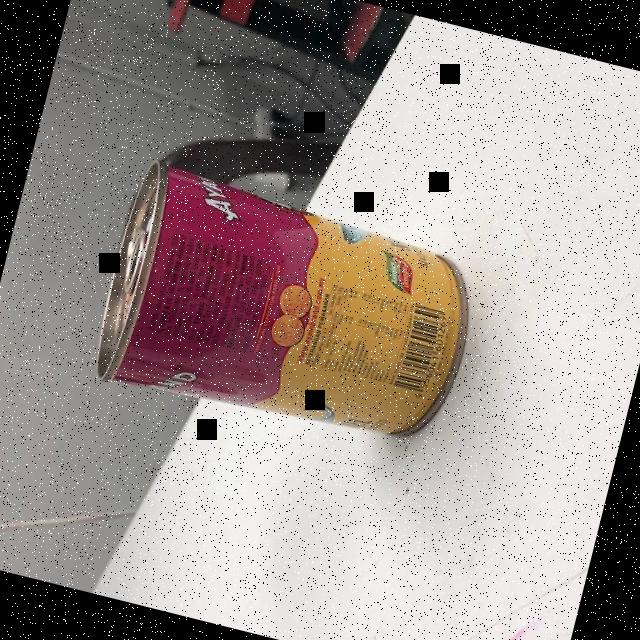can: (86, 154, 494, 463)
